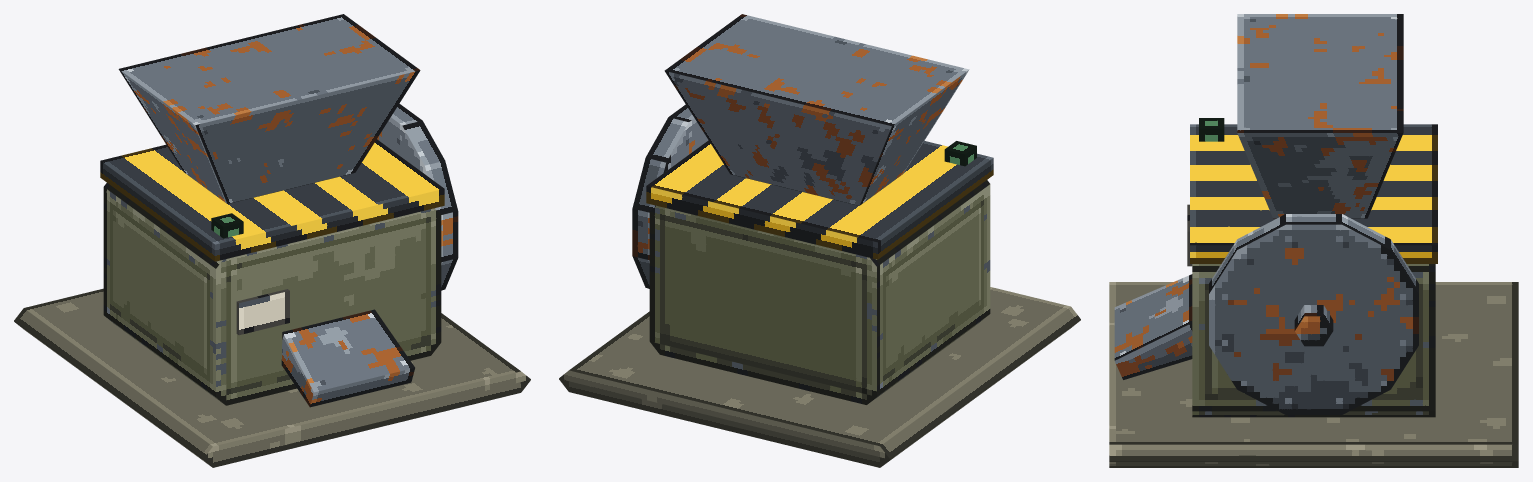
The model's file is crusher.glb.
The picture shows the model from 3 angles, left to right: view 1: azimuth 30°, elevation 25°; view 2: azimuth 150°, elevation 25°; view 3: azimuth 270°, elevation 25°; orthographic projection. The views are drawn at different scales.
Visible parts, largest first — view 1: body, hopper, pad, band, chute, wheel, plate, lamp; view 2: body, hopper, pad, band, wheel, lamp; view 3: pad, wheel, hopper, band, body, chute, axle, lamp.
Boxes of the visible parts, bbox=[...] form: body: bbox=[103, 183, 441, 405]; hopper: bbox=[118, 14, 420, 203]; pad: bbox=[14, 288, 530, 467]; band: bbox=[100, 139, 444, 261]; chute: bbox=[281, 309, 414, 407]; wheel: bbox=[377, 103, 458, 290]; plate: bbox=[236, 289, 289, 335]; lamp: bbox=[211, 213, 243, 238]; body: bbox=[649, 180, 990, 404]; hopper: bbox=[664, 14, 969, 205]; pad: bbox=[559, 287, 1080, 467]; band: bbox=[646, 140, 993, 259]; wheel: bbox=[632, 104, 708, 288]; lamp: bbox=[944, 141, 976, 166]; pad: bbox=[1109, 282, 1518, 467]; wheel: bbox=[1209, 214, 1418, 414]; hopper: bbox=[1237, 14, 1403, 218]; band: bbox=[1190, 124, 1437, 263]; body: bbox=[1192, 264, 1435, 417]; chute: bbox=[1114, 274, 1192, 379]; axle: bbox=[1294, 305, 1333, 346]; lamp: bbox=[1199, 118, 1224, 141].
Bounding box in the file's own units: 32 × 27 × 32.
Materials: 1 (1 with a texture image).
